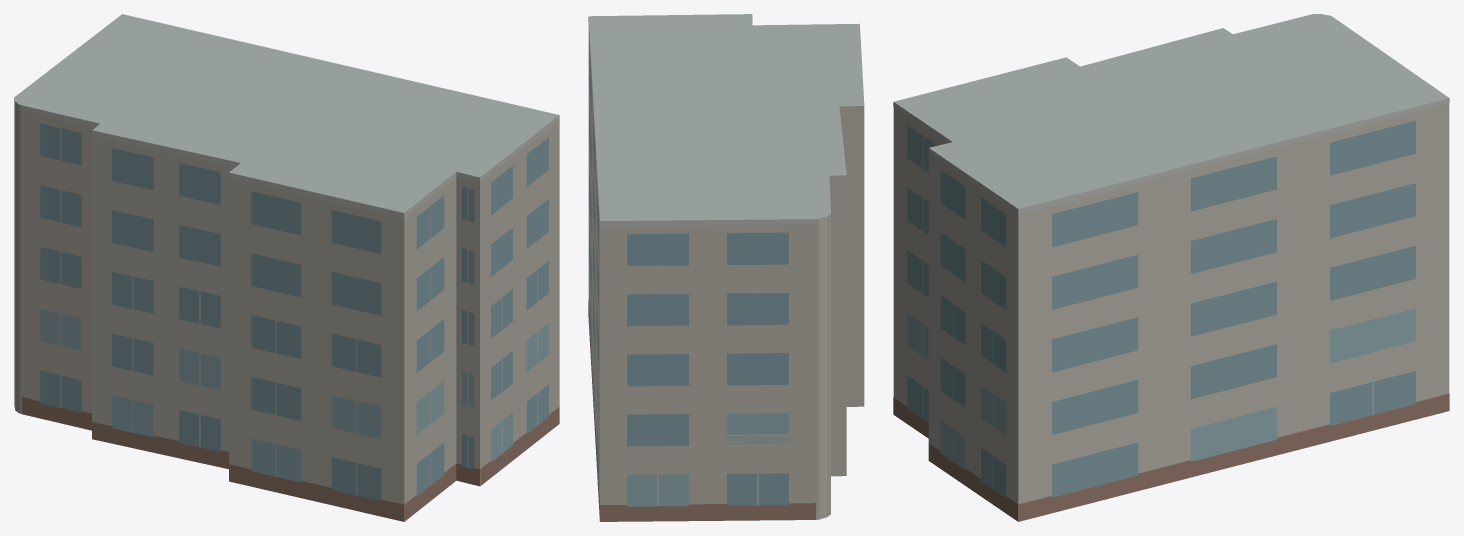
File: survey-upis-32664975.glb
The picture shows the model from 3 angles, left to right: view 1: azimuth 30°, elevation 25°; view 2: azimuth 150°, elevation 25°; view 3: azimuth 270°, elevation 25°; orthographic projection. The views are drawn at different scales.
Visible parts, largest first — view 1: survey-upis-32664975.tmp; view 2: survey-upis-32664975.tmp; view 3: survey-upis-32664975.tmp.
Boxes of the visible parts, x1,y1,x2,y2 form: survey-upis-32664975.tmp: [14, 14, 559, 521]; survey-upis-32664975.tmp: [588, 14, 864, 521]; survey-upis-32664975.tmp: [893, 14, 1449, 521].
Size of the model in its own units: 19.39 by 14.5 by 23.36.
